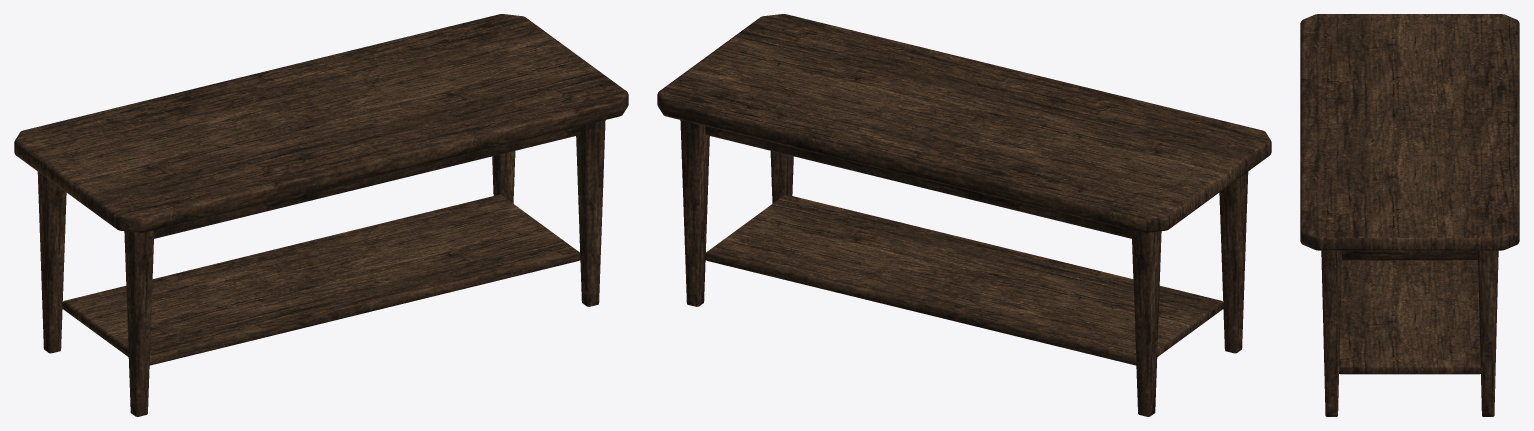
File: table_small_1.obj
3 renders of one model, left to right at view 1: azimuth 30°, elevation 25°; view 2: azimuth 150°, elevation 25°; view 3: azimuth 270°, elevation 25°, orthographic. The views are drawn at different scales.
Visible parts, largest first — view 1: table_small_1; view 2: table_small_1; view 3: table_small_1.
Part boxes in pixels (x1,y1,x2,y2): table_small_1: (14,14,628,416); table_small_1: (657,14,1271,416); table_small_1: (1300,14,1519,416).
Bounding box in the file's own units: 1.7 × 0.67 × 0.7.
